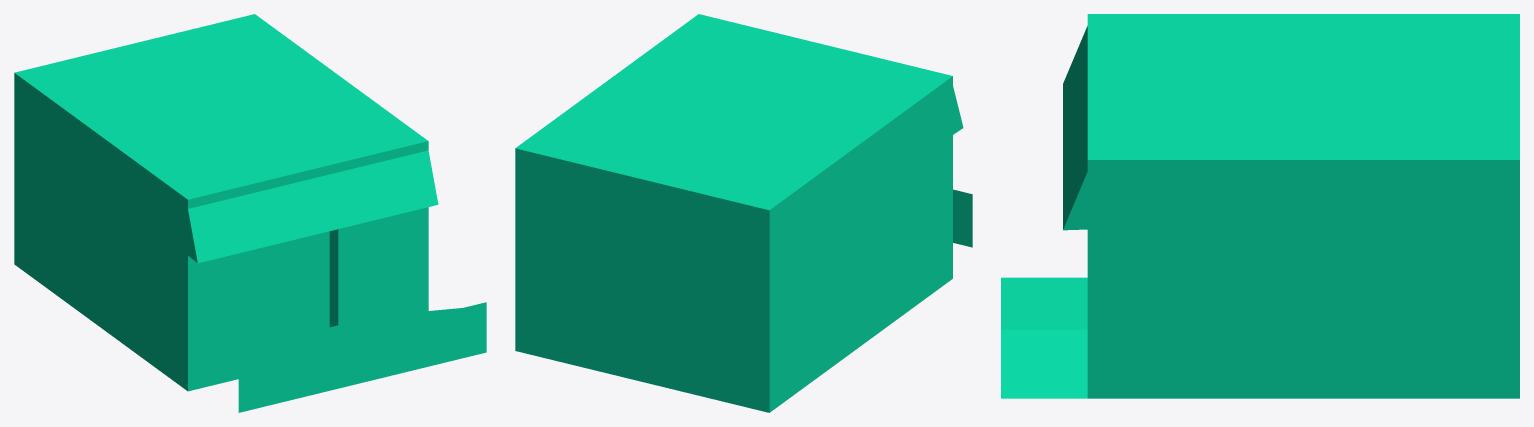
File: PostOfficeModel.glb
The picture shows the model from 3 angles, left to right: view 1: azimuth 30°, elevation 25°; view 2: azimuth 150°, elevation 25°; view 3: azimuth 270°, elevation 25°; orthographic projection. The views are drawn at different scales.
Visible parts, largest first — view 1: PostOffice-col; view 2: PostOffice-col; view 3: PostOffice-col.
Part boxes in pixels (<box>): PostOffice-col: <box>14,14,486,412</box>; PostOffice-col: <box>515,14,972,412</box>; PostOffice-col: <box>1001,14,1519,398</box>.
Size of the model in its own units: 4.39 by 3.05 by 6.
